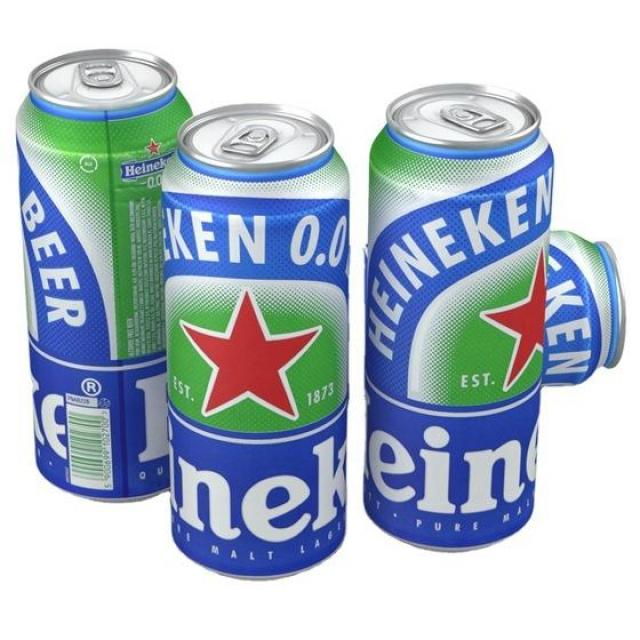non-organic waste: (362, 58, 576, 567), (147, 91, 360, 583), (2, 41, 206, 530)
